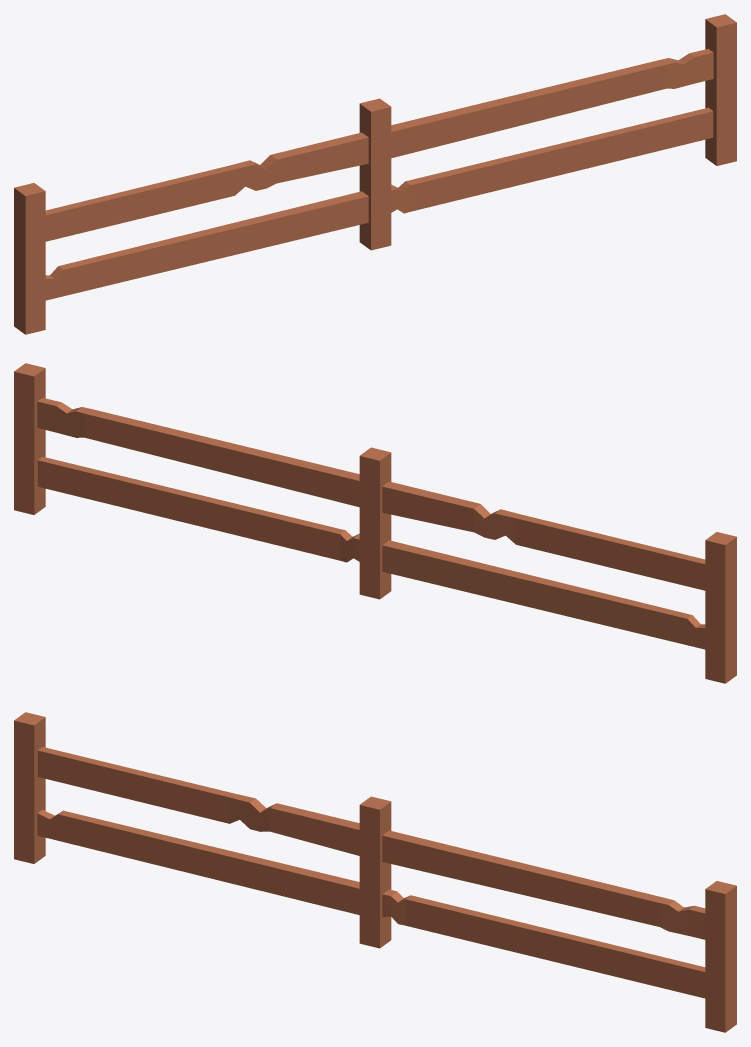
The model's file is Fence.fbx.
The picture shows the model from 3 angles, top to bottom: view 1: azimuth 30°, elevation 25°; view 2: azimuth 150°, elevation 25°; view 3: azimuth 330°, elevation 25°; orthographic projection.
Parts seen in each view (by area): view 1: Fence; view 2: Fence; view 3: Fence.
Part boxes in pixels (x1,y1,x2,y2): Fence: [14, 14, 736, 334]; Fence: [14, 363, 736, 683]; Fence: [14, 712, 736, 1032].
Size of the model in its own units: 589 by 110 by 16.55.
